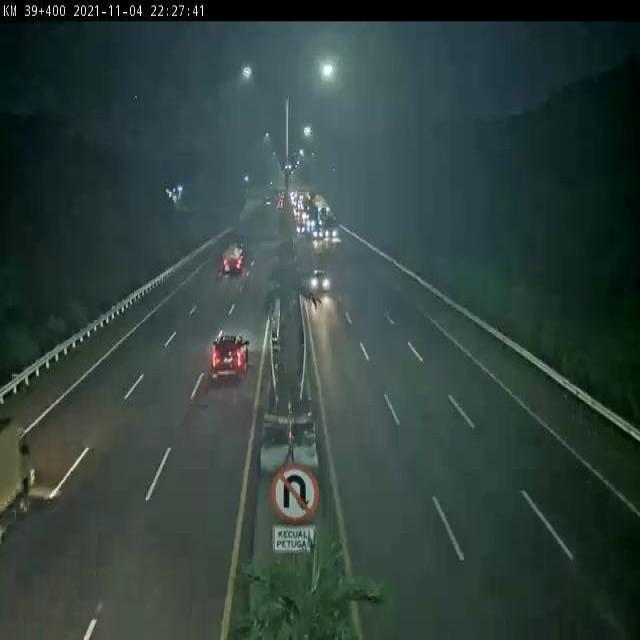car: (212, 331, 250, 381), (309, 265, 334, 295)
truck-l-: (220, 239, 247, 273)
